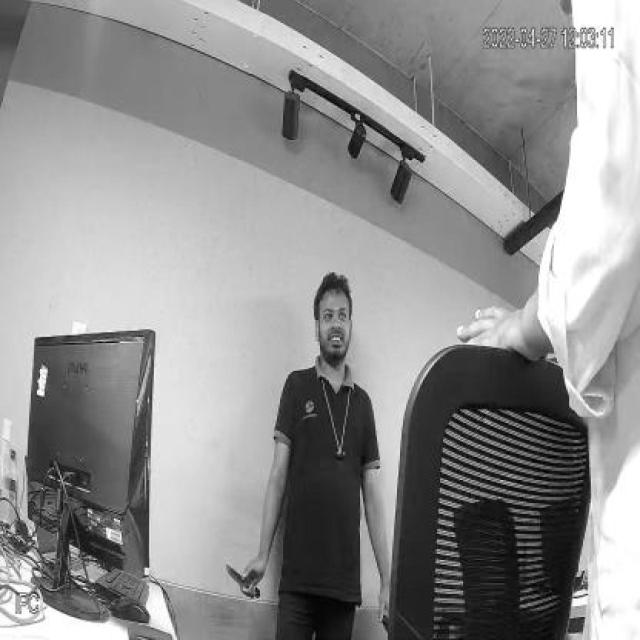weapon: (378, 608, 391, 632)
